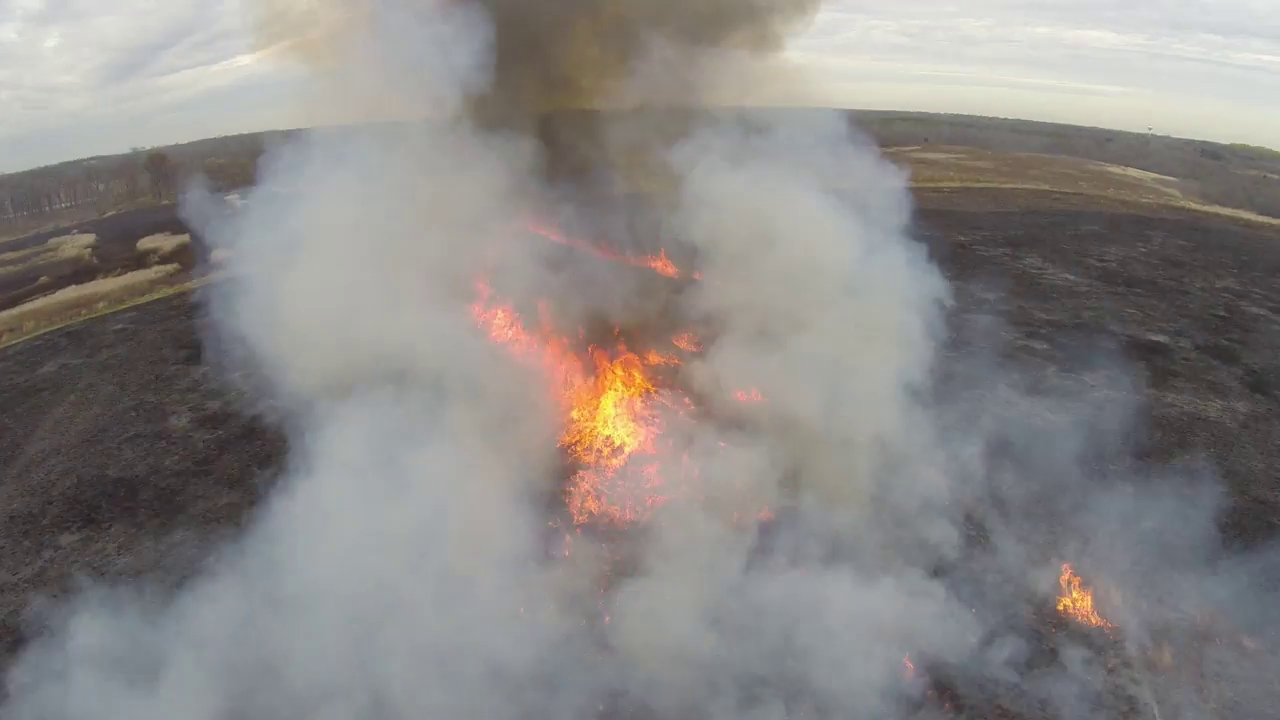forest_fire: (472, 281, 701, 525), (532, 226, 699, 279), (1055, 563, 1114, 627)
